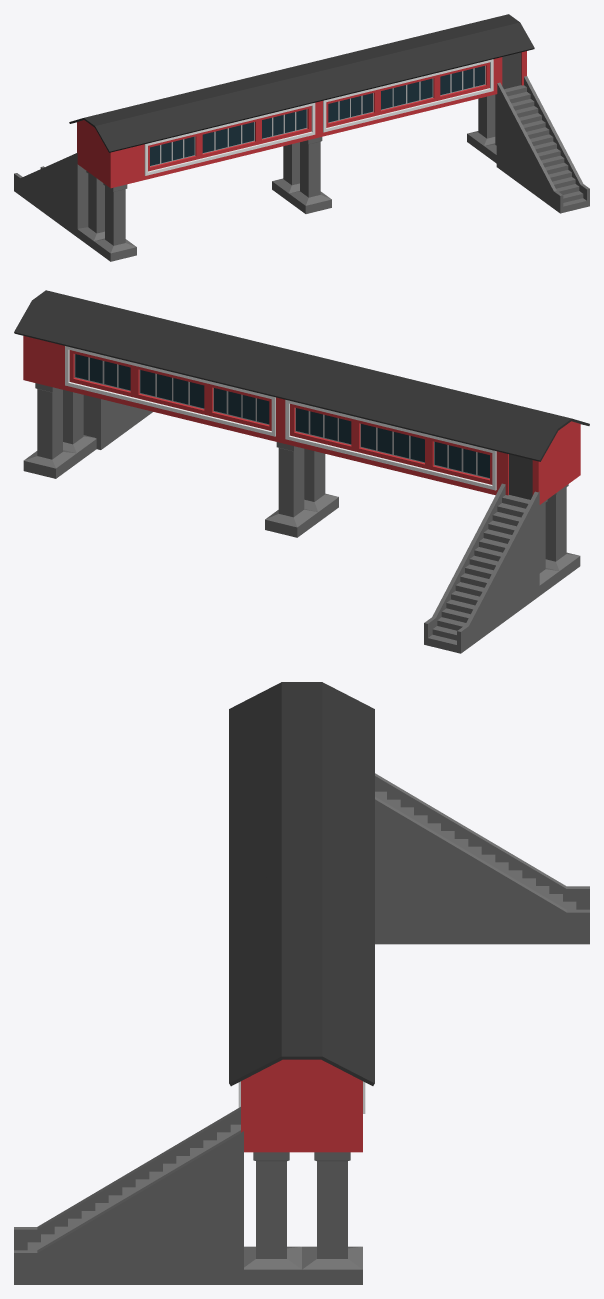
3 renders of one model, top to bottom at view 1: azimuth 30°, elevation 25°; view 2: azimuth 150°, elevation 25°; view 3: azimuth 270°, elevation 25°, orthographic. The views are drawn at different scales.
Parts seen in each view (by area): view 1: Plane.031; view 2: Plane.031; view 3: Plane.031.
Part boxes in pixels (x1,y1,x2,y2): Plane.031: (14, 14, 589, 261); Plane.031: (14, 290, 589, 653); Plane.031: (14, 682, 589, 1284).
Bounding box in the file's own units: 21.42 × 6.19 × 13.93.
1 material, 1 textured.
